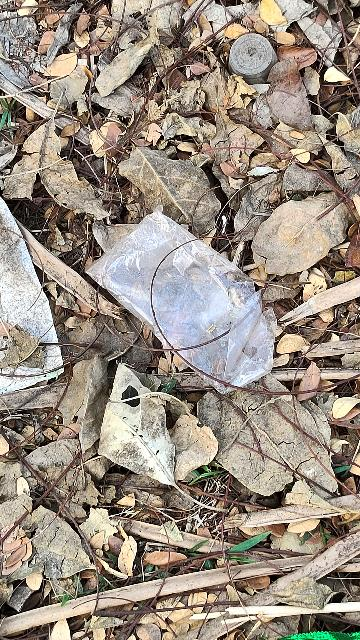polythene: (90, 216, 285, 384)
